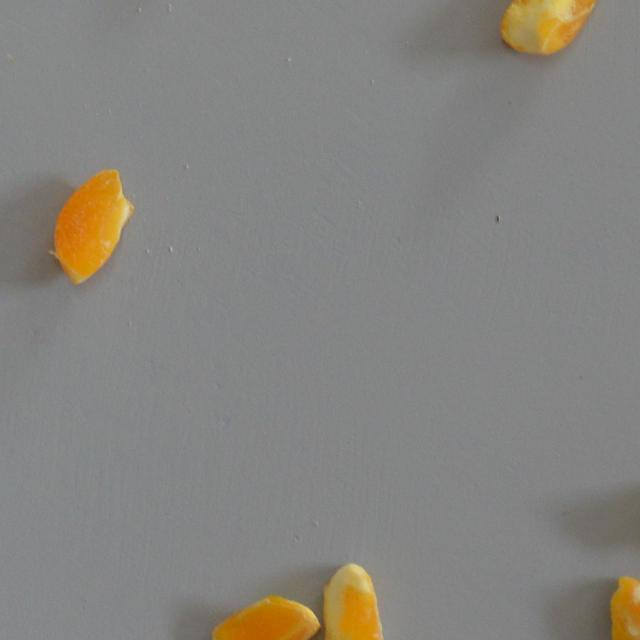pelicula: (49, 168, 134, 286), (496, 0, 609, 56), (206, 594, 322, 640), (322, 563, 384, 640), (609, 576, 640, 640)
